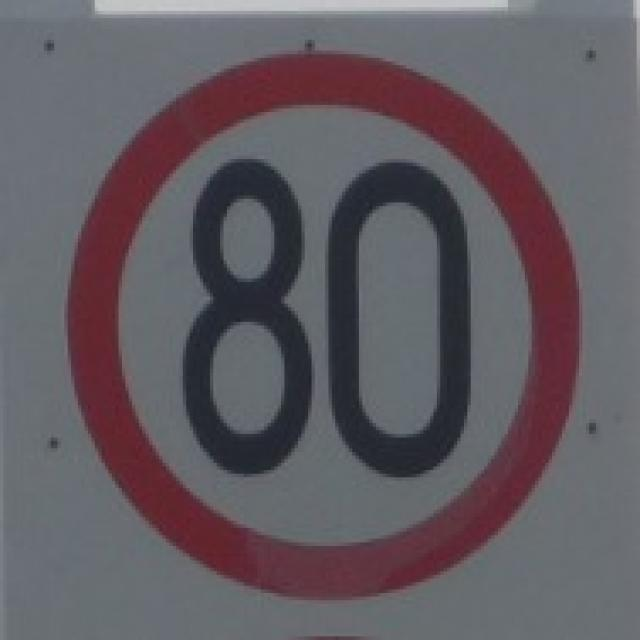Speed Limit -80-: (182, 153, 472, 480)
